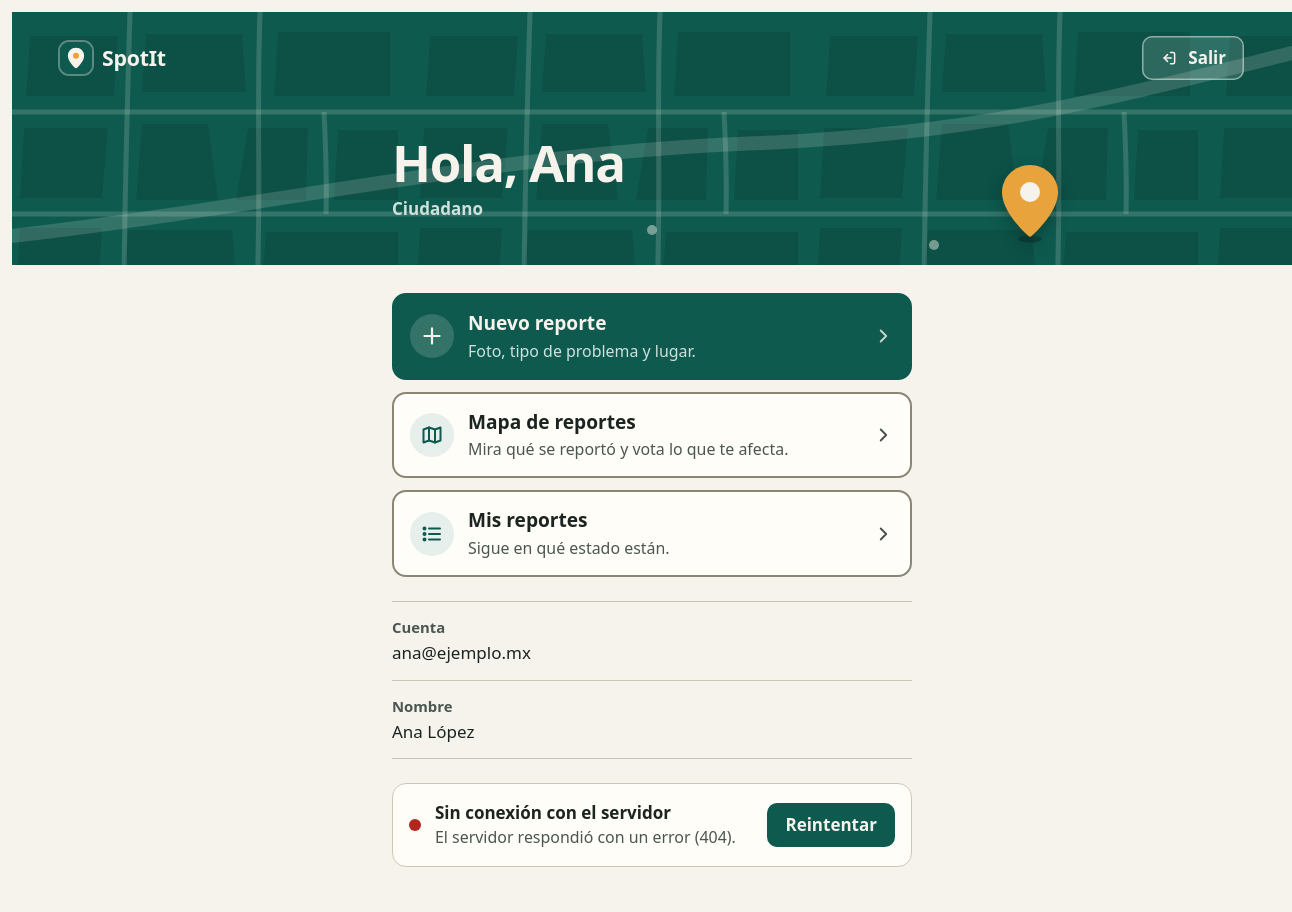
it: rutas protegidas › al salir invalida la sesión en el servidor y lo confirma en /entrar
The image size is (1292, 912).
Click the button "Salir": (1193, 58) [1142, 36, 1244, 80]
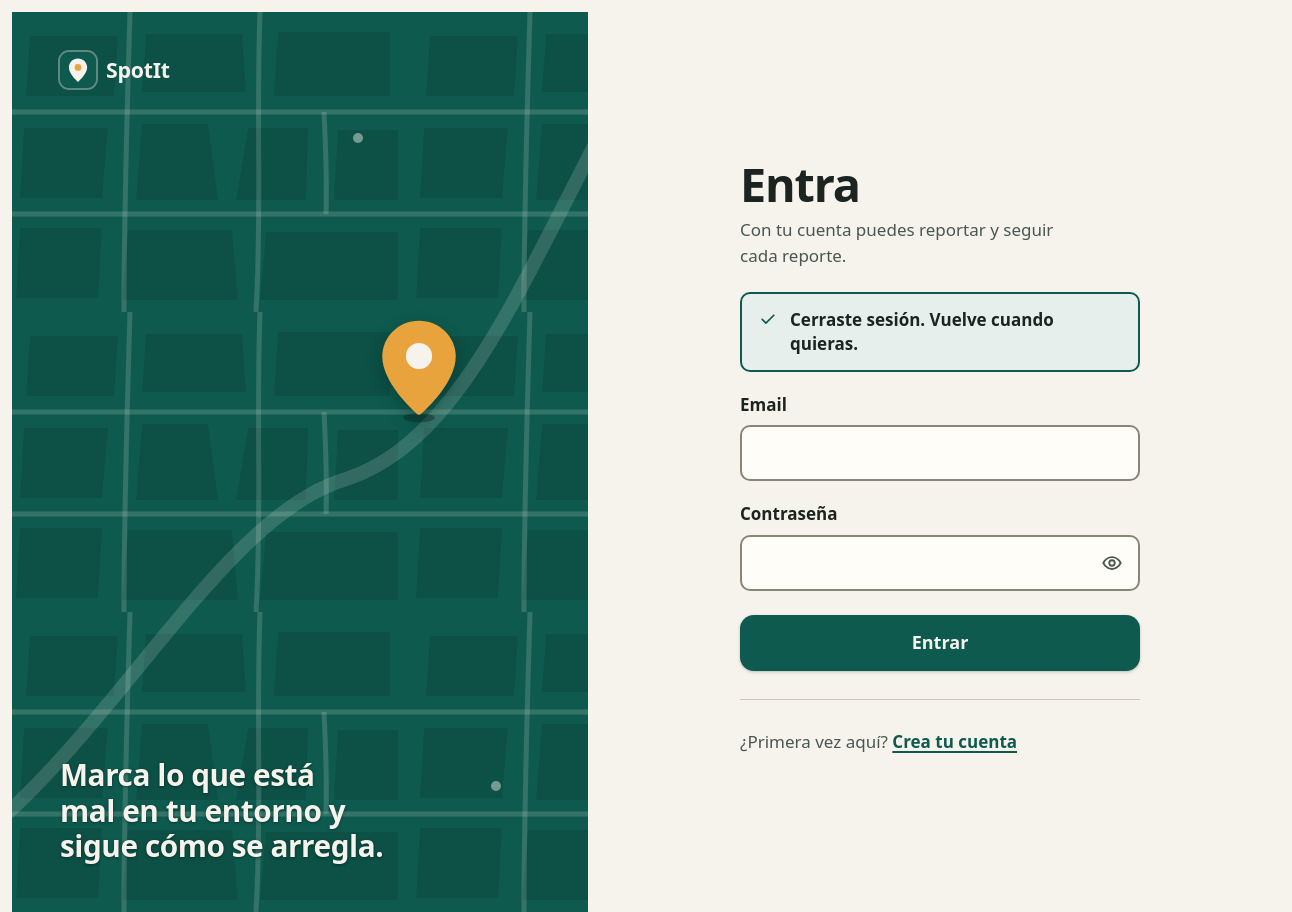
Expected: the text "Cerraste sesión. Vuelve cuando quieras." is shown, [790, 308, 1054, 355]
